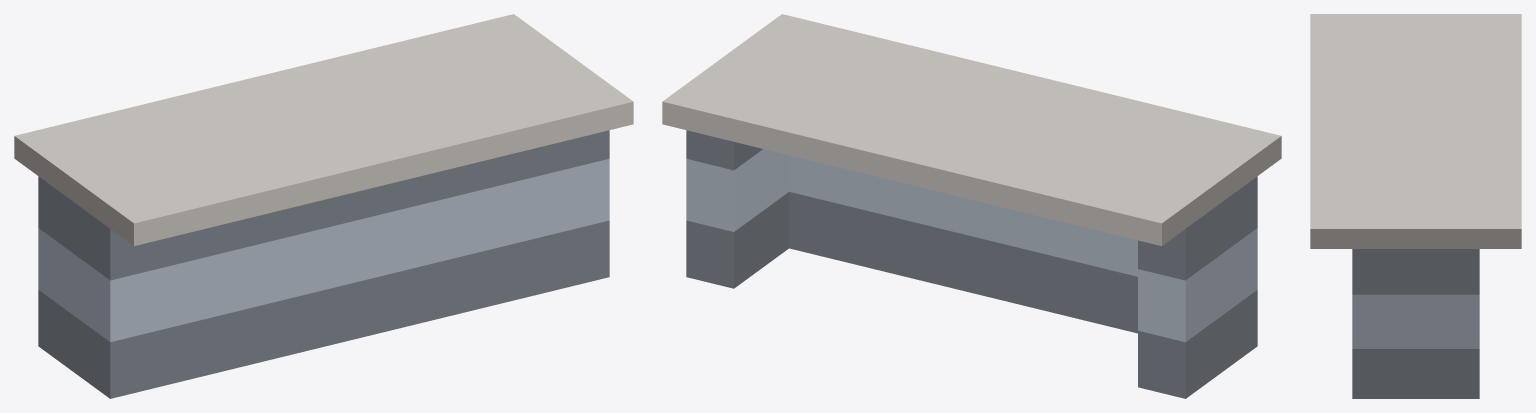
Rendered from Counter2.glb.
The picture shows the model from 3 angles, left to right: view 1: azimuth 30°, elevation 25°; view 2: azimuth 150°, elevation 25°; view 3: azimuth 270°, elevation 25°; orthographic projection. The views are drawn at different scales.
Visible parts, largest first — view 1: SI_Prop_Counter_02; view 2: SI_Prop_Counter_02; view 3: SI_Prop_Counter_02.
Part boxes in pixels (x1,y1,x2,y2): SI_Prop_Counter_02: [14, 14, 633, 398]; SI_Prop_Counter_02: [662, 14, 1281, 398]; SI_Prop_Counter_02: [1310, 14, 1521, 398].
Size of the model in its own units: 0.04 by 0.0148 by 0.0166.
1 material, 1 textured.
